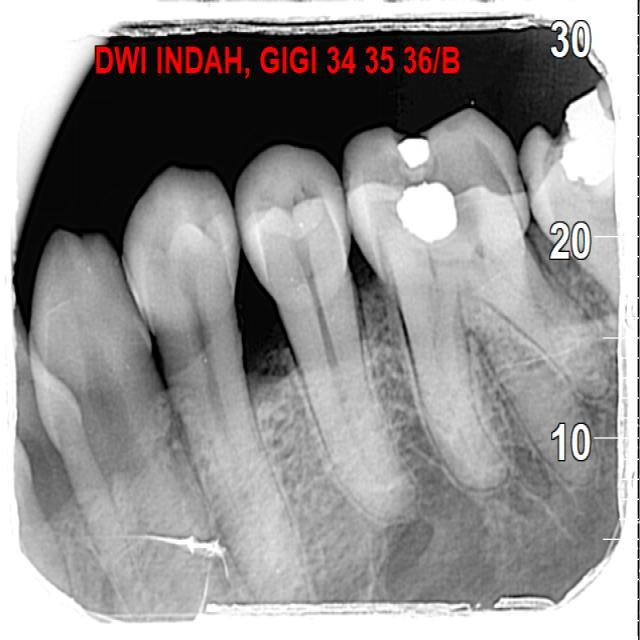individual-tooth-8tto: (346, 107, 631, 495), (126, 172, 306, 602), (237, 141, 408, 513)
